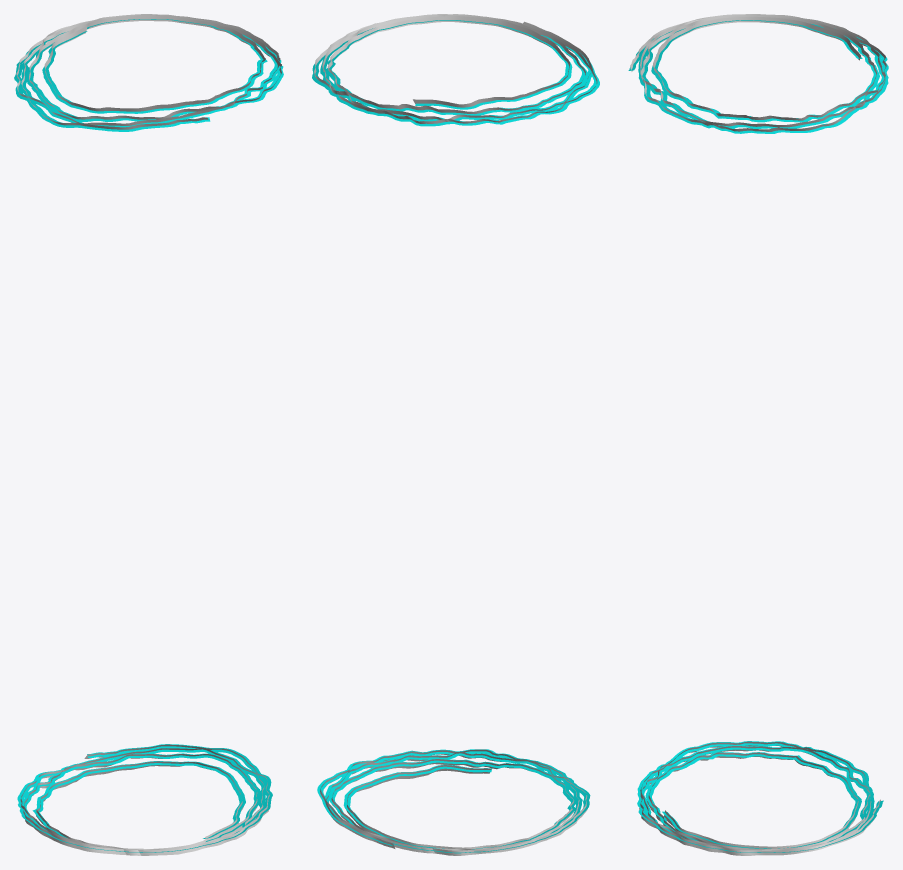
File: SM_SaturnAurora.fbx
3 views of the same model, side by side, from view 1: azimuth 30°, elevation 25°; view 2: azimuth 150°, elevation 25°; view 3: azimuth 270°, elevation 25° (orthographic).
Parts seen in each view (by area): view 1: SM_SaturnAurora; view 2: SM_SaturnAurora; view 3: SM_SaturnAurora.
Part boxes in pixels (<box>): SM_SaturnAurora: <box>14,14,283,855</box>; SM_SaturnAurora: <box>312,14,599,855</box>; SM_SaturnAurora: <box>628,14,888,855</box>.
Size of the model in its own units: 0.6679 by 1.98 by 0.6215.
